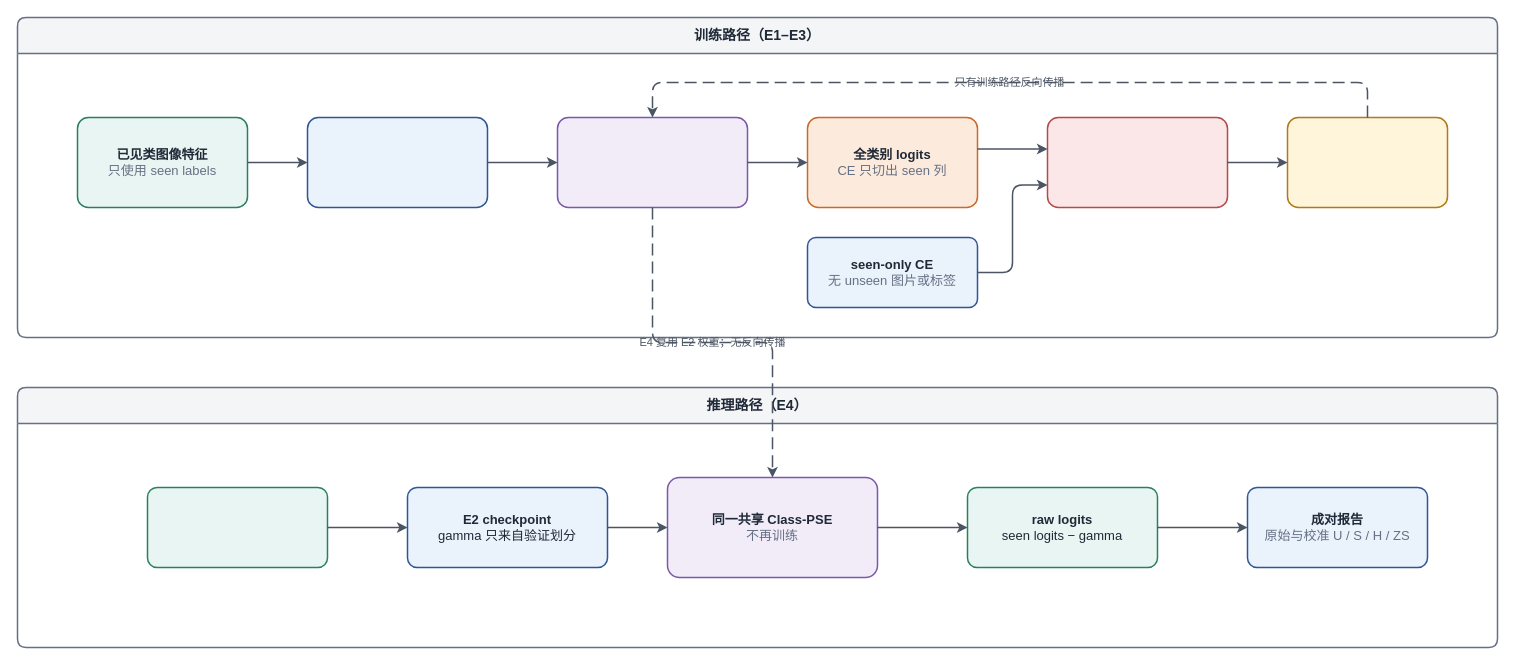
Image size: 1516x666. Some labels were removed from this diagram. Each missing label, with the centre of its shape:
"Adam 更新模型权重" goes at (1367,162).
"E3 概率下限 λ=0.1；下限 0.05，达到后归零" goes at (1137,162).
"共享 Class-PSE seen / unseen 分组运行" goes at (652,162).
"固定测试特征" goes at (237,527).
"独立批次采样 batch RNG 与模型 RNG 分离" goes at (397,162).
